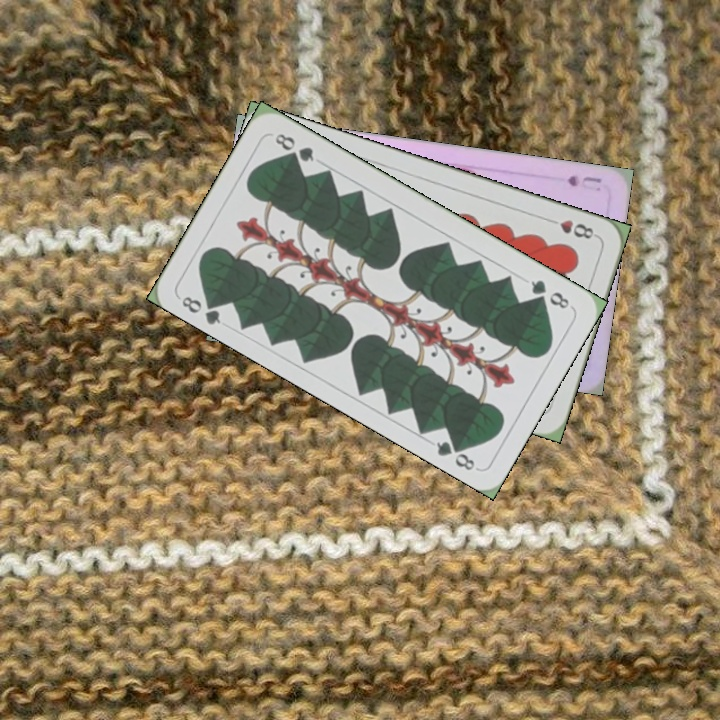G8: (526, 275, 572, 312), (177, 292, 224, 328)
H8: (543, 214, 600, 242)
SU: (563, 171, 605, 189)
